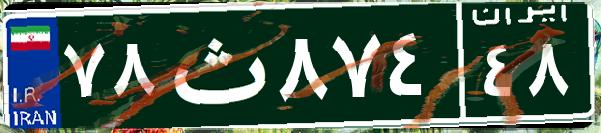4: (385, 28, 445, 110), (475, 38, 525, 113)
7: (330, 28, 385, 110), (57, 26, 110, 107)
8: (273, 28, 330, 110), (110, 28, 158, 105), (525, 38, 570, 115)
ث: (158, 15, 273, 115)
